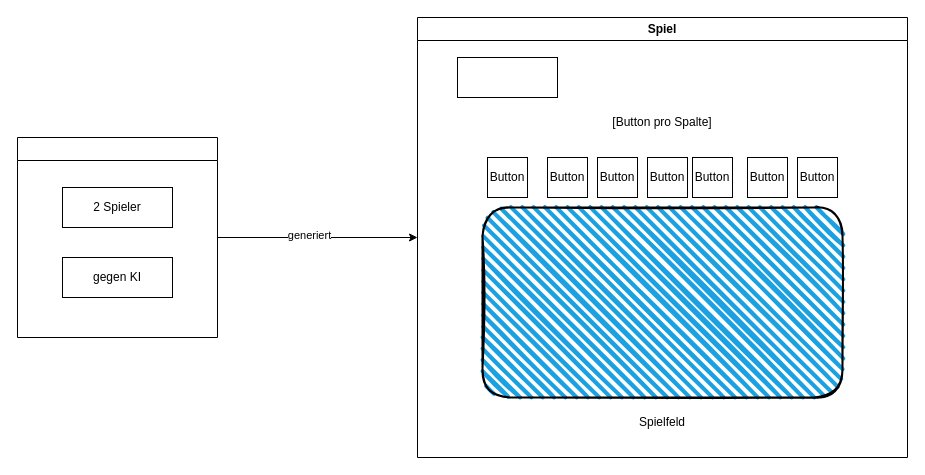
The diagram is 925 pixels wide and 475 high, and some of its shapes have lost their labels. Each missing label, with the box of its shape:
Anzeige, wer am Zug ist: (456, 56, 558, 98)
Main-GUI: (16, 136, 218, 338)
